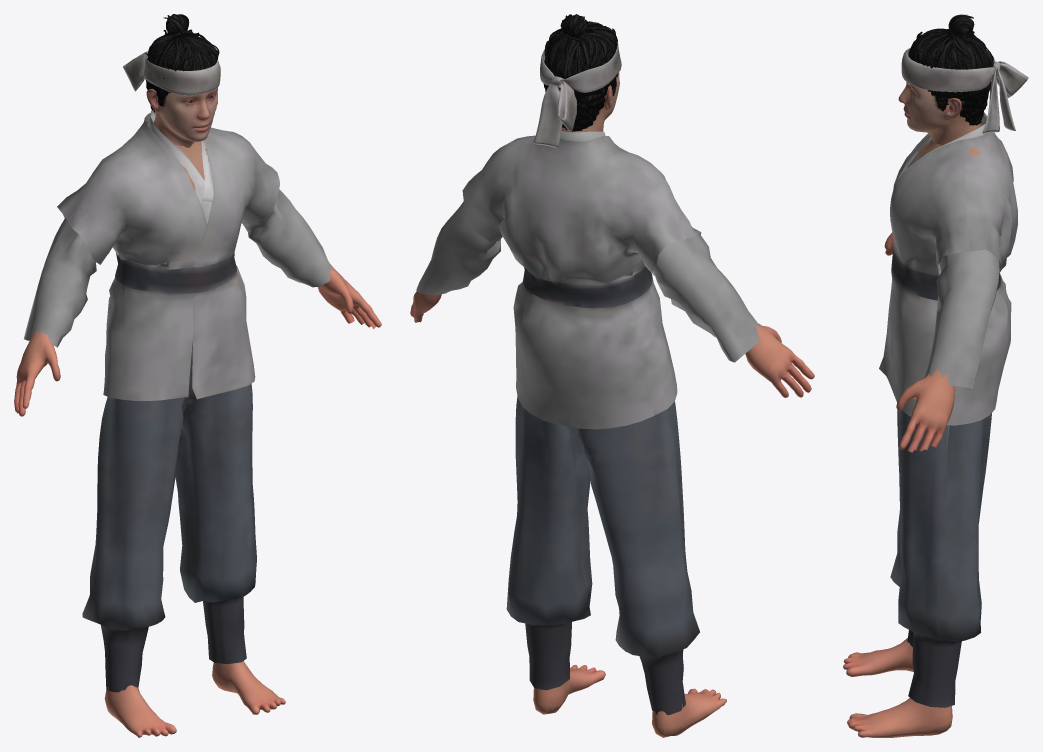
File: citizen3.fbx
The picture shows the model from 3 angles, left to right: view 1: azimuth 30°, elevation 25°; view 2: azimuth 150°, elevation 25°; view 3: azimuth 270°, elevation 25°; orthographic projection. The views are drawn at different scales.
Visible parts, largest first — view 1: NPC_Citizen3_Mesh_0; view 2: NPC_Citizen3_Mesh_0; view 3: NPC_Citizen3_Mesh_0.
Part boxes in pixels (bbox=[...]): NPC_Citizen3_Mesh_0: bbox=[14, 14, 381, 737]; NPC_Citizen3_Mesh_0: bbox=[410, 14, 814, 737]; NPC_Citizen3_Mesh_0: bbox=[843, 14, 1028, 737].
Size of the model in its own units: 99.93 by 176 by 42.48.
2 materials, 2 textured.
